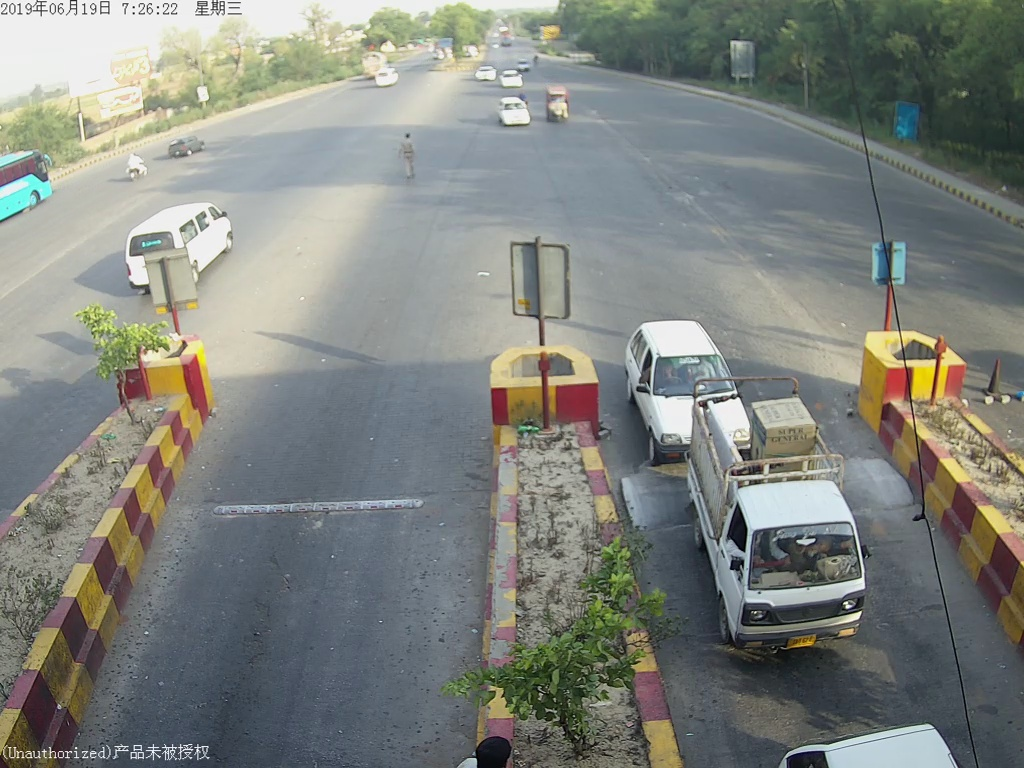Cat-1: (690, 390, 876, 655)
